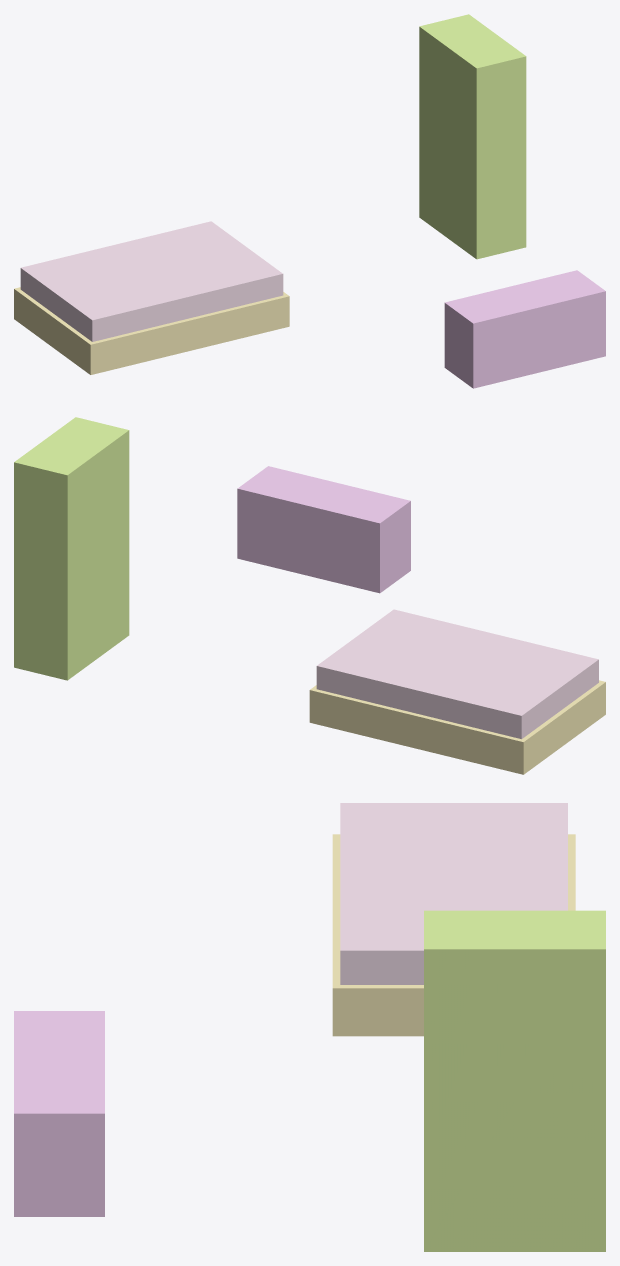
The model's file is accessories_blockout.glb.
The picture shows the model from 3 angles, top to bottom: view 1: azimuth 30°, elevation 25°; view 2: azimuth 150°, elevation 25°; view 3: azimuth 270°, elevation 25°; orthographic projection. The views are drawn at different scales.
Visible parts, largest first — view 1: Bookshelf, BedMattress, Desk, BedBase; view 2: Bookshelf, BedMattress, Desk, BedBase; view 3: Bookshelf, BedMattress, Desk, BedBase.
Boxes of the visible parts, box(x1,y1,x2,y2) form: Bookshelf: box(419, 14, 526, 259); BedMattress: box(20, 221, 283, 341); Desk: box(444, 270, 605, 388); BedBase: box(14, 287, 289, 374); Bookshelf: box(14, 417, 129, 680); BedMattress: box(316, 609, 598, 739); Desk: box(237, 466, 410, 593); BedBase: box(309, 680, 605, 774); Bookshelf: box(424, 910, 605, 1251); BedMattress: box(340, 803, 567, 984); Desk: box(14, 1011, 104, 1216); BedBase: box(332, 834, 575, 1036).
Bounding box in the file's own units: 5.6 × 2.23 × 3.9.
